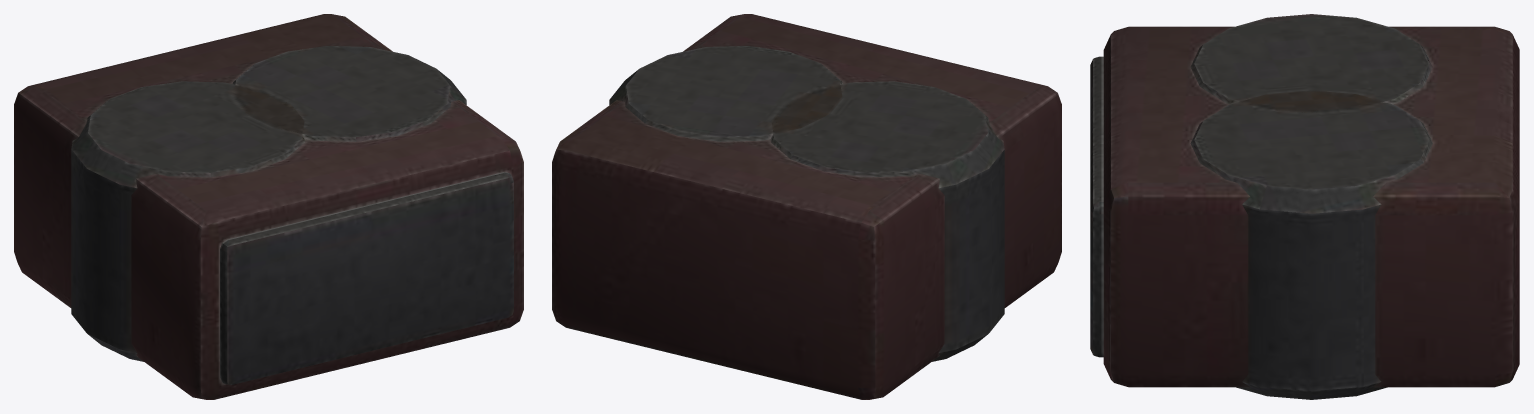
File: defender_power_pack.glb
3 renders of one model, left to right at view 1: azimuth 30°, elevation 25°; view 2: azimuth 150°, elevation 25°; view 3: azimuth 270°, elevation 25°, orthographic. The views are drawn at different scales.
Visible parts, largest first — view 1: defender_power_pack; view 2: defender_power_pack; view 3: defender_power_pack.
Part boxes in pixels (box(x1,y1,x2,y2)): defender_power_pack: box(14, 14, 523, 399); defender_power_pack: box(552, 14, 1061, 399); defender_power_pack: box(1090, 14, 1519, 399).
Size of the model in its own units: 0.1 by 0.0513 by 0.095.
Materials: 1 (1 with a texture image).
